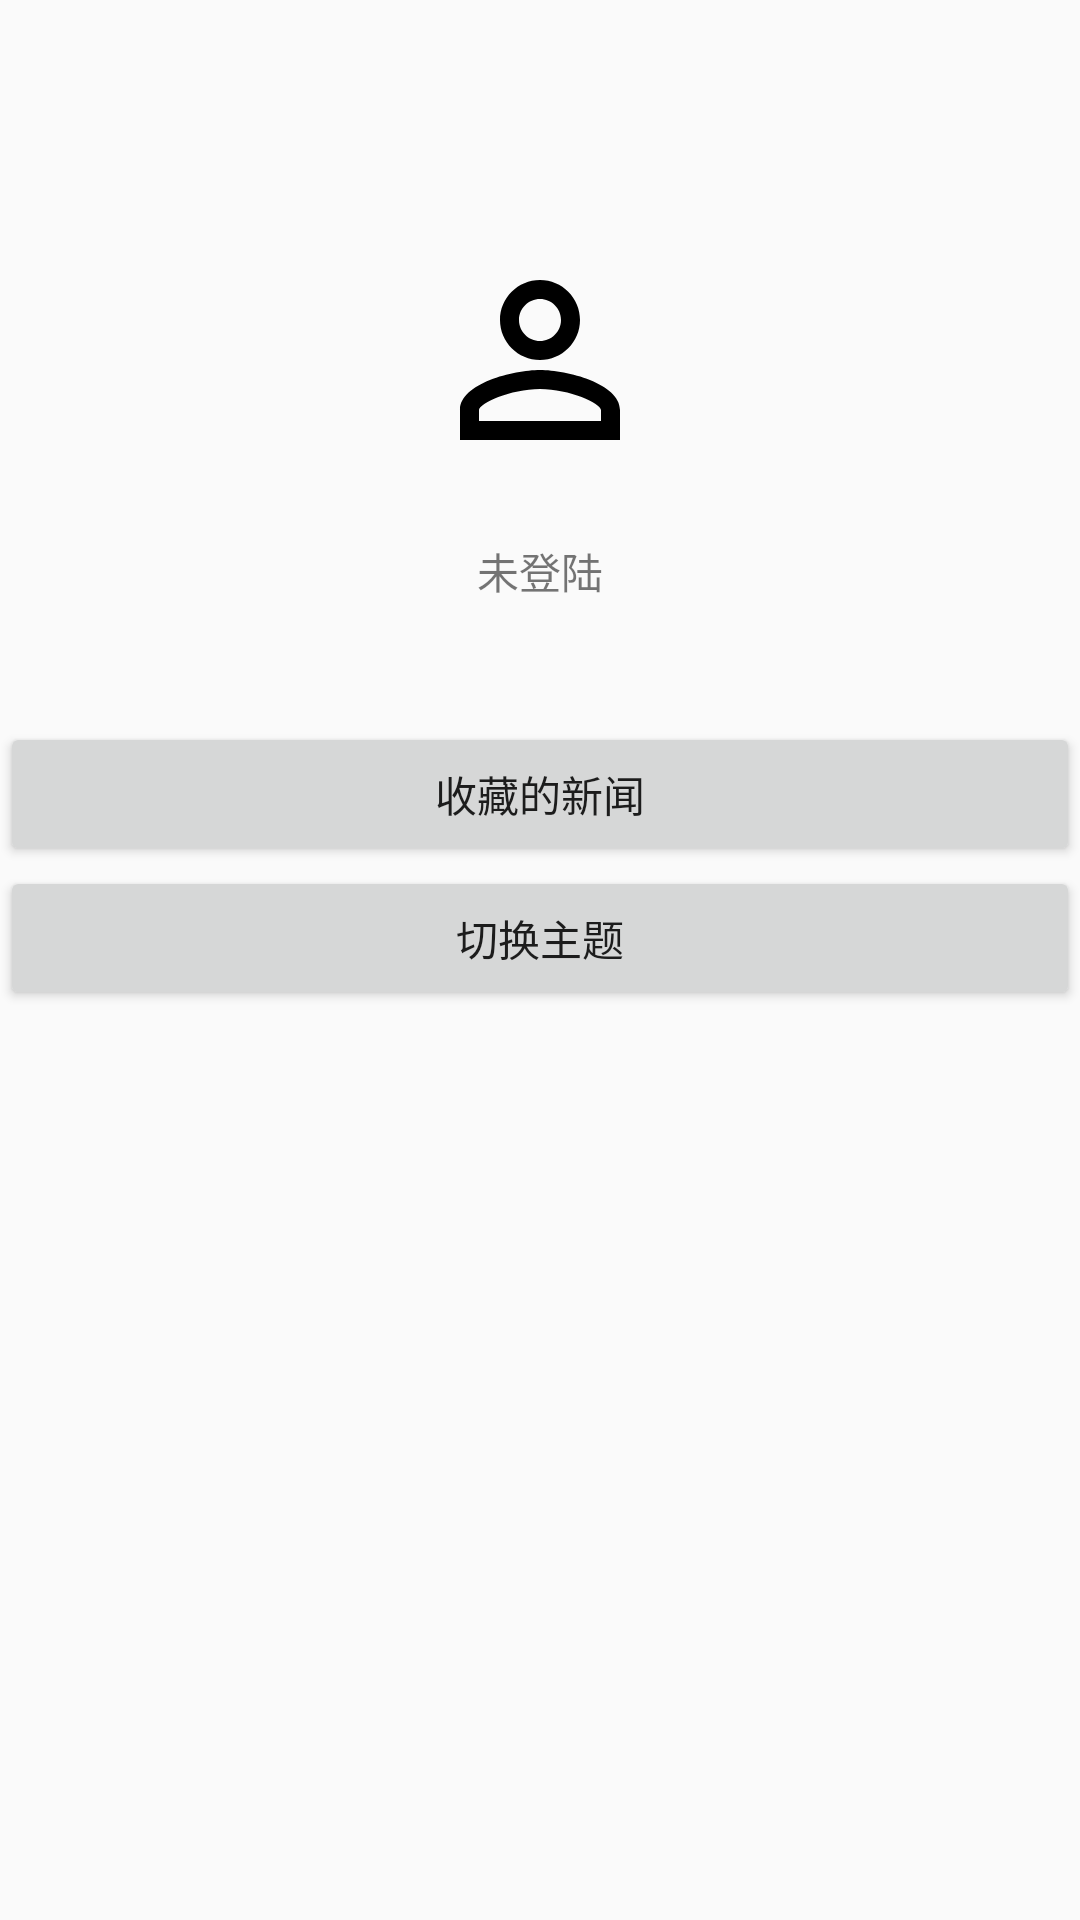

Where icons sit on this 1080*1920 app screen, as (x1, y1, x2, y2):
person: (460, 280, 620, 440)
